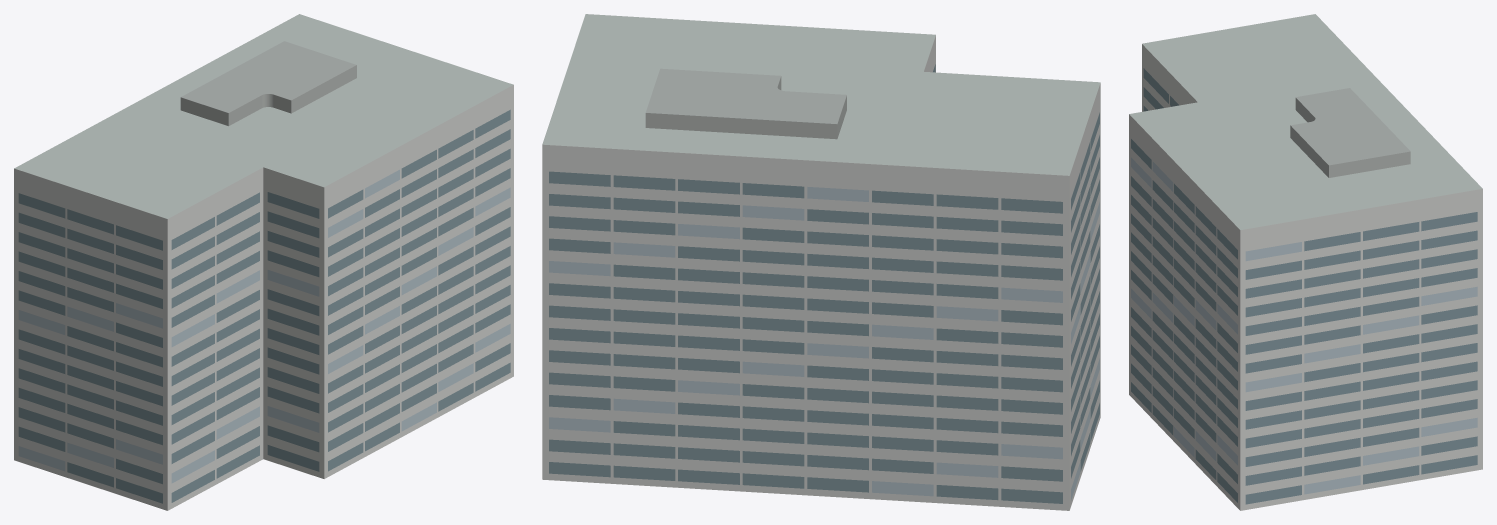
File: apt-a13527203.glb
The picture shows the model from 3 angles, left to right: view 1: azimuth 30°, elevation 25°; view 2: azimuth 150°, elevation 25°; view 3: azimuth 270°, elevation 25°; orthographic projection. The views are drawn at different scales.
Visible parts, largest first — view 1: apt-a13527203; view 2: apt-a13527203; view 3: apt-a13527203.
Part boxes in pixels (x1=…): apt-a13527203: x1=14, y1=14, x2=513, y2=510; apt-a13527203: x1=542, y1=14, x2=1100, y2=510; apt-a13527203: x1=1129, y1=14, x2=1482, y2=510.
Bounding box in the file's own units: 75.58 × 47.81 × 52.25.
